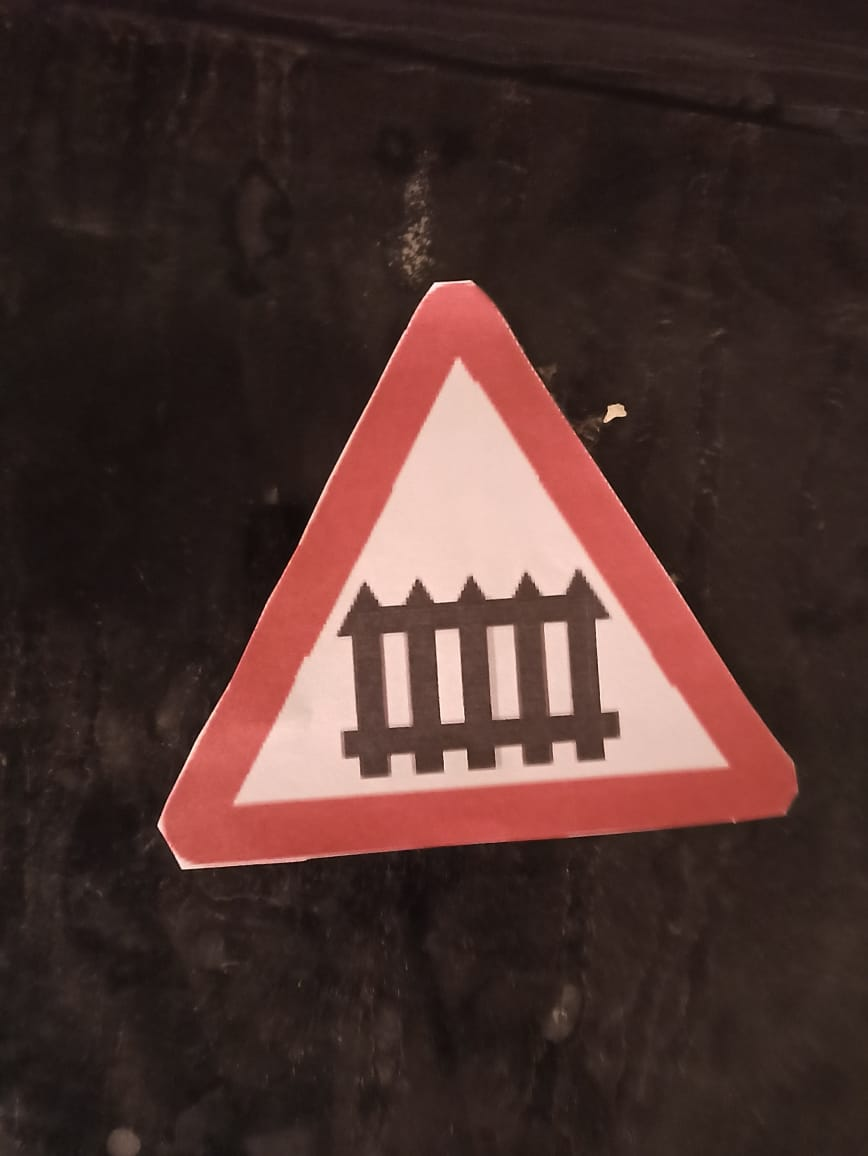GUARDED LEVEL CROSSING: (158, 242, 827, 855)
